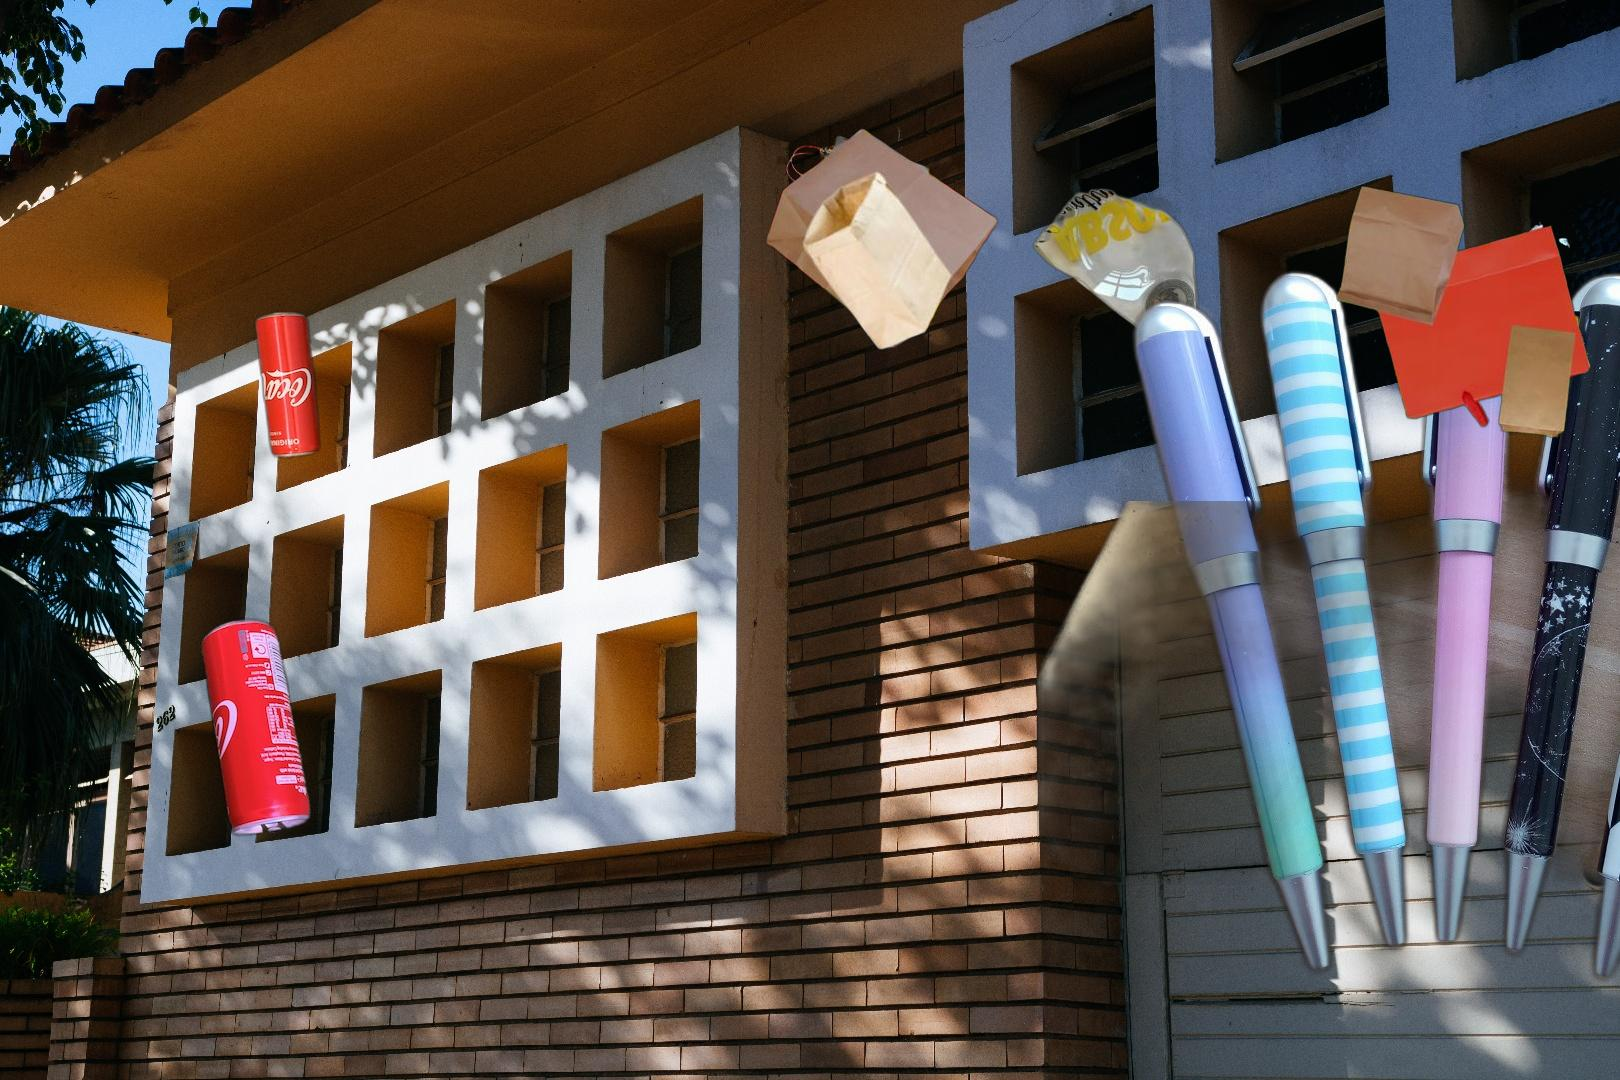glass: (1029, 181, 1204, 363)
metal-cans: (196, 614, 316, 841), (250, 305, 325, 464)
paper: (1037, 501, 1446, 885)
paper-bag: (1334, 184, 1592, 442), (762, 127, 1000, 376)
penholder: (1125, 250, 1620, 1040)
